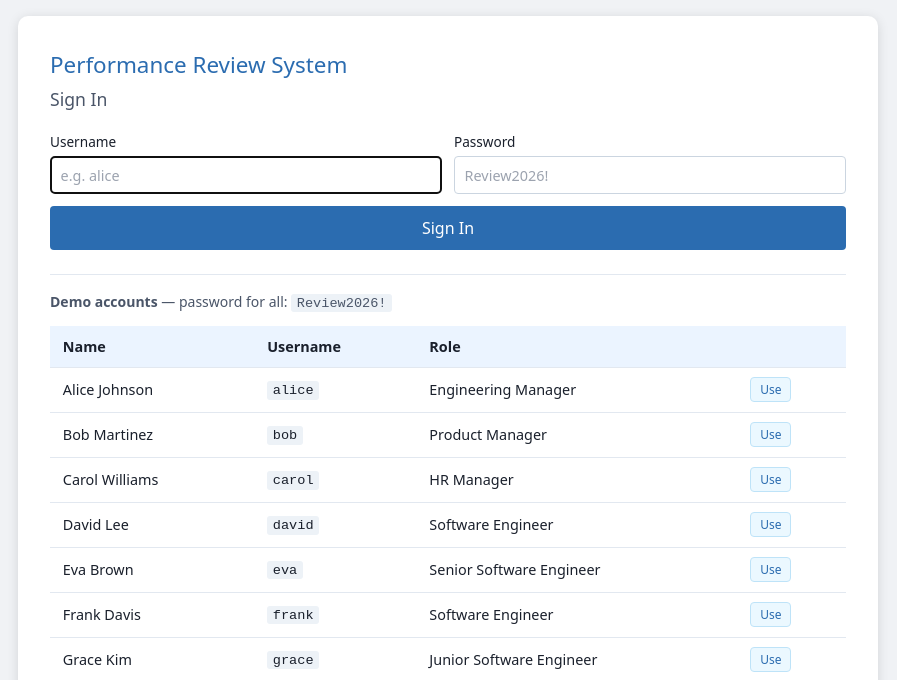
Scenario: Login › shows error message when login fails with 401
This screenshot has width=897, height=680.
Step 1. Type "alice" into the field with placeholder "e.g. alice" → (246, 175), box [50, 156, 442, 194]
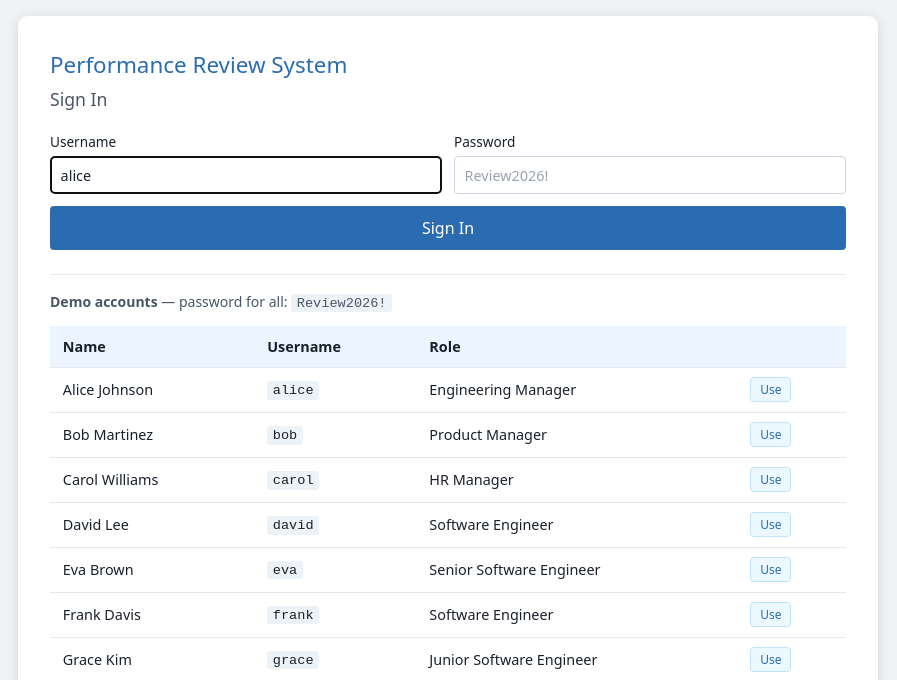
Step 2. Type "wrongpass" into the password field with placeholder "Review2026!" → (650, 175), box [454, 156, 846, 194]
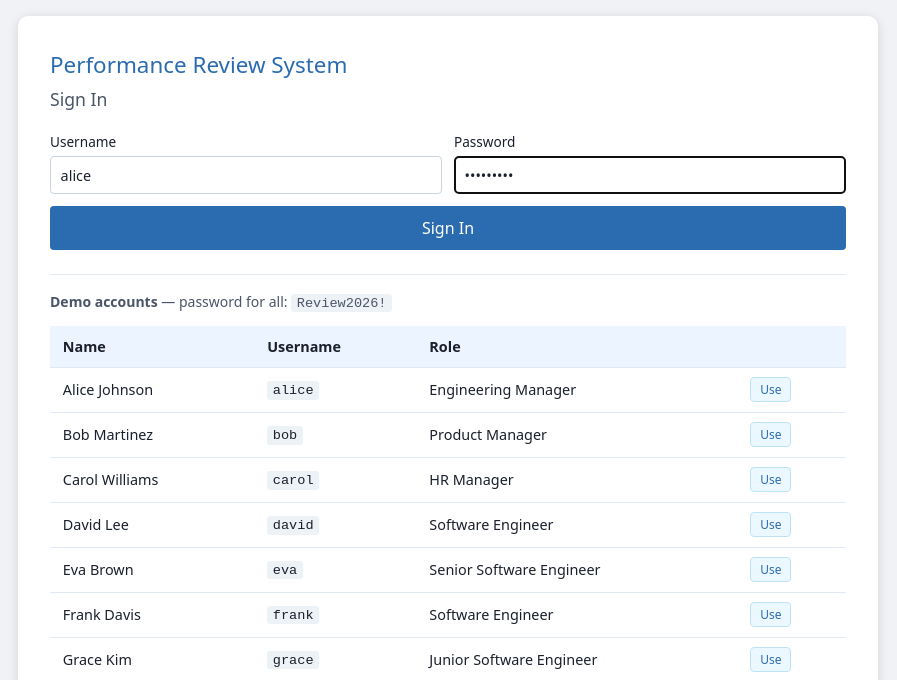
Step 3. Click the button "Sign In" → (448, 228), box [50, 206, 846, 250]
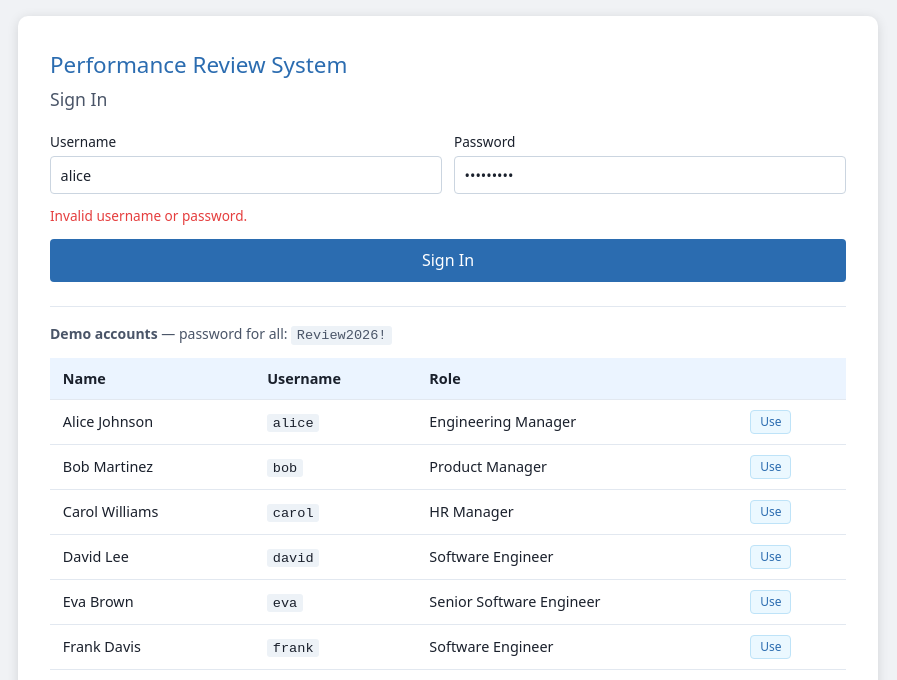
Result: the text "Invalid username or password." is shown at [50, 206, 247, 225]
